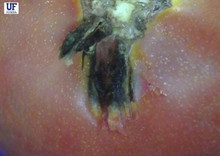damaged_tomato: (1, 1, 220, 154)
